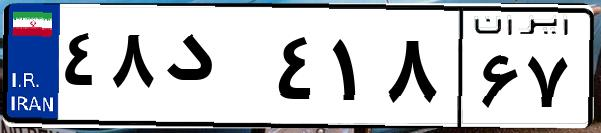1: (330, 28, 385, 110)
4: (270, 28, 330, 110), (57, 26, 110, 100)
6: (475, 38, 525, 113)
7: (525, 38, 570, 115)
8: (385, 28, 445, 110), (110, 28, 158, 98)
د: (158, 20, 270, 120)
